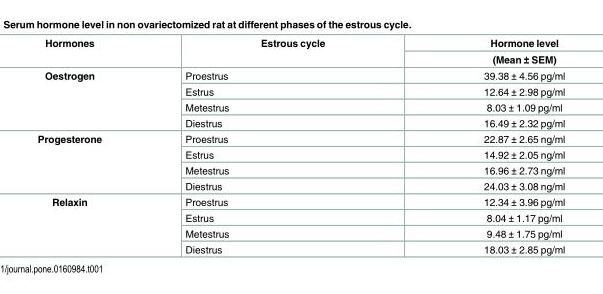table: (36, 36, 564, 254)
table column: (142, 36, 403, 254), (403, 36, 564, 254), (36, 36, 142, 254)
table column header: (36, 36, 564, 66)
table row: (36, 66, 564, 83), (36, 50, 564, 66), (36, 98, 564, 114), (36, 114, 564, 130), (36, 130, 564, 146), (36, 146, 564, 162), (36, 177, 564, 193), (36, 193, 564, 209), (36, 209, 564, 225), (36, 225, 564, 241), (36, 83, 564, 98), (36, 162, 564, 177), (36, 36, 564, 50), (36, 241, 564, 254)
table spanning cell: (142, 36, 403, 66), (36, 66, 142, 130), (36, 130, 142, 193), (36, 193, 142, 254), (403, 36, 564, 66), (36, 36, 142, 66)
